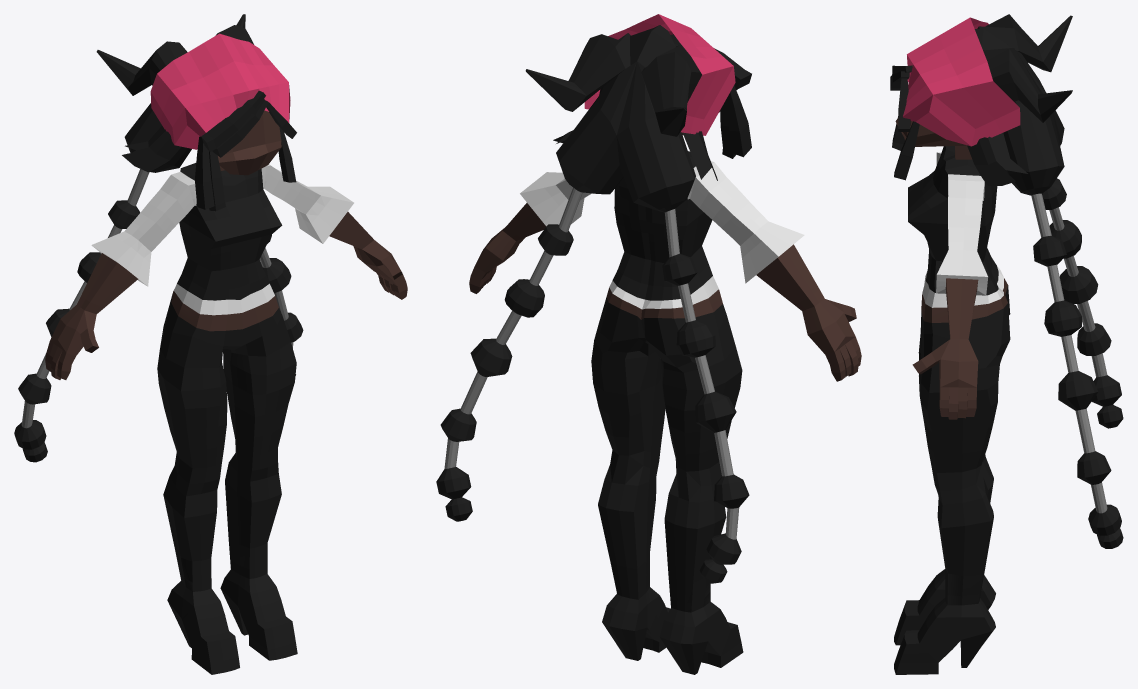
Rendered from Callyope Animations.fbx.
3 views of the same model, side by side, from view 1: azimuth 30°, elevation 25°; view 2: azimuth 150°, elevation 25°; view 3: azimuth 270°, elevation 25° (orthographic). The views are drawn at different scales.
Visible parts, largest first — view 1: Callyope_Mesh; view 2: Callyope_Mesh; view 3: Callyope_Mesh.
Boxes of the visible parts, box(x1,y1,x2,y2) form: Callyope_Mesh: box(14, 14, 407, 674); Callyope_Mesh: box(436, 14, 861, 674); Callyope_Mesh: box(890, 14, 1123, 674).
Bounding box in the file's own units: 120 × 198 × 65.64.
